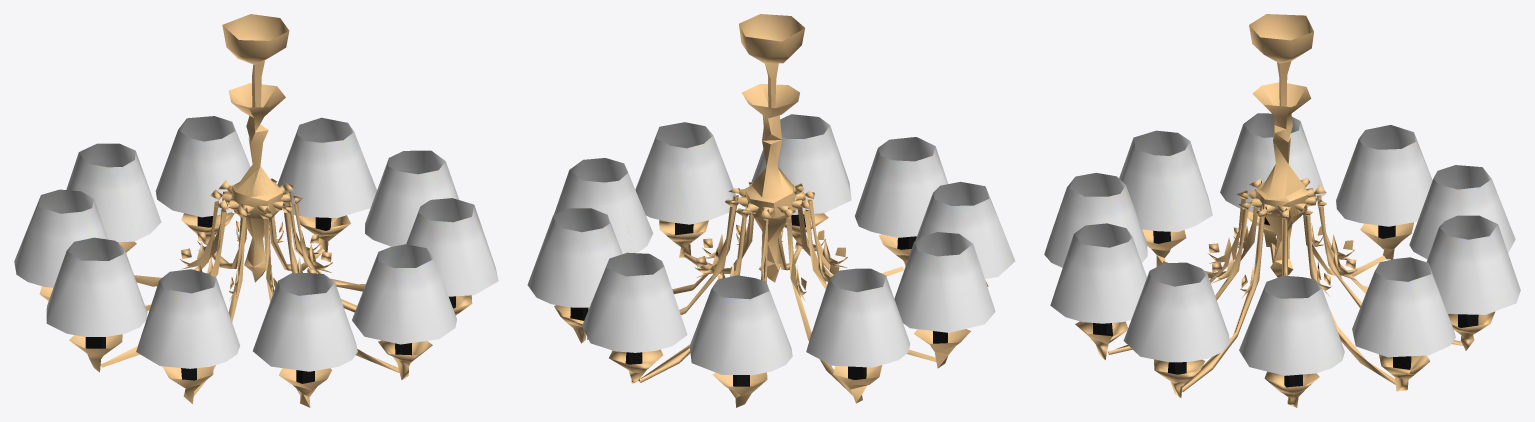
Rendered from LightTop0019.obj.
3 renders of one model, left to right at view 1: azimuth 30°, elevation 25°; view 2: azimuth 150°, elevation 25°; view 3: azimuth 270°, elevation 25°, orthographic.
Bounding box in the file's own units: 1.04 × 0.706 × 1.01.
1 material, 1 textured.
